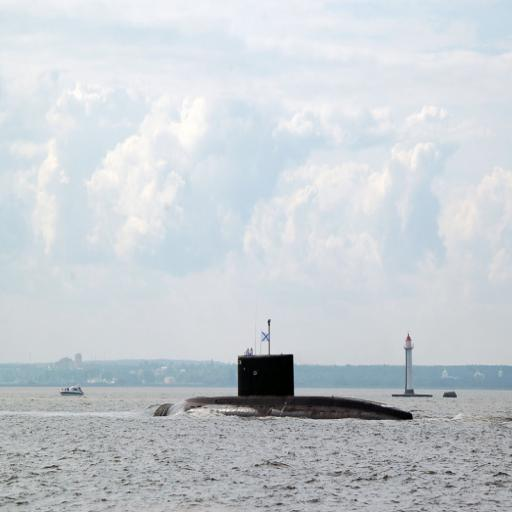submarine: (127, 287, 419, 442)
